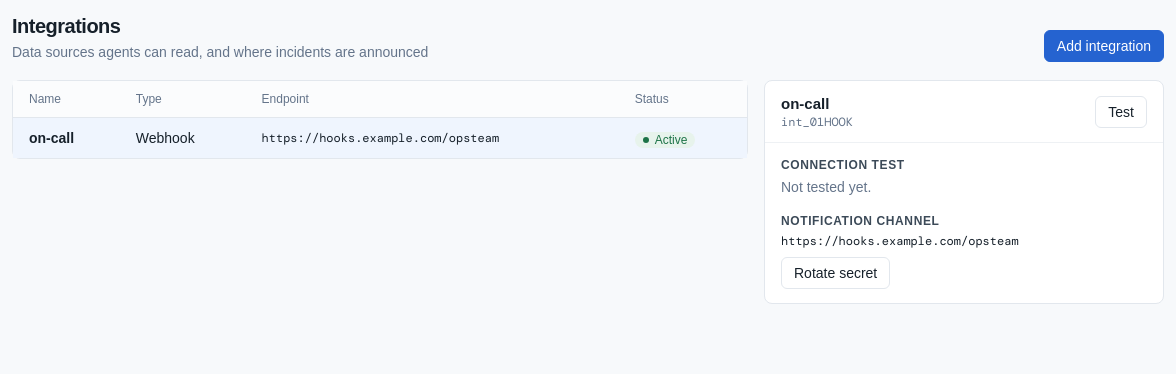
Test: testing a webhook reports whether the sample was accepted
Expected: the text "https://hooks.example.com/opsteam" is shown, x1=781 y1=233 x2=1019 y2=249
Click the button "Test". click: (1121, 112)
box: x1=1095 y1=96 x2=1147 y2=128
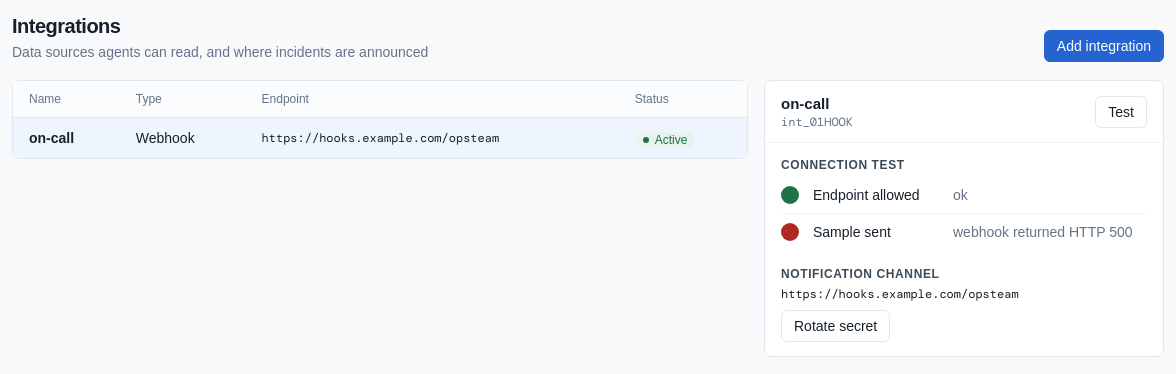
Expected: the text "Sample sent" is shown, x1=813 y1=224 x2=891 y2=240
Expected: the text "webhook returned HTTP 500" is shown, x1=953 y1=222 x2=1147 y2=242
